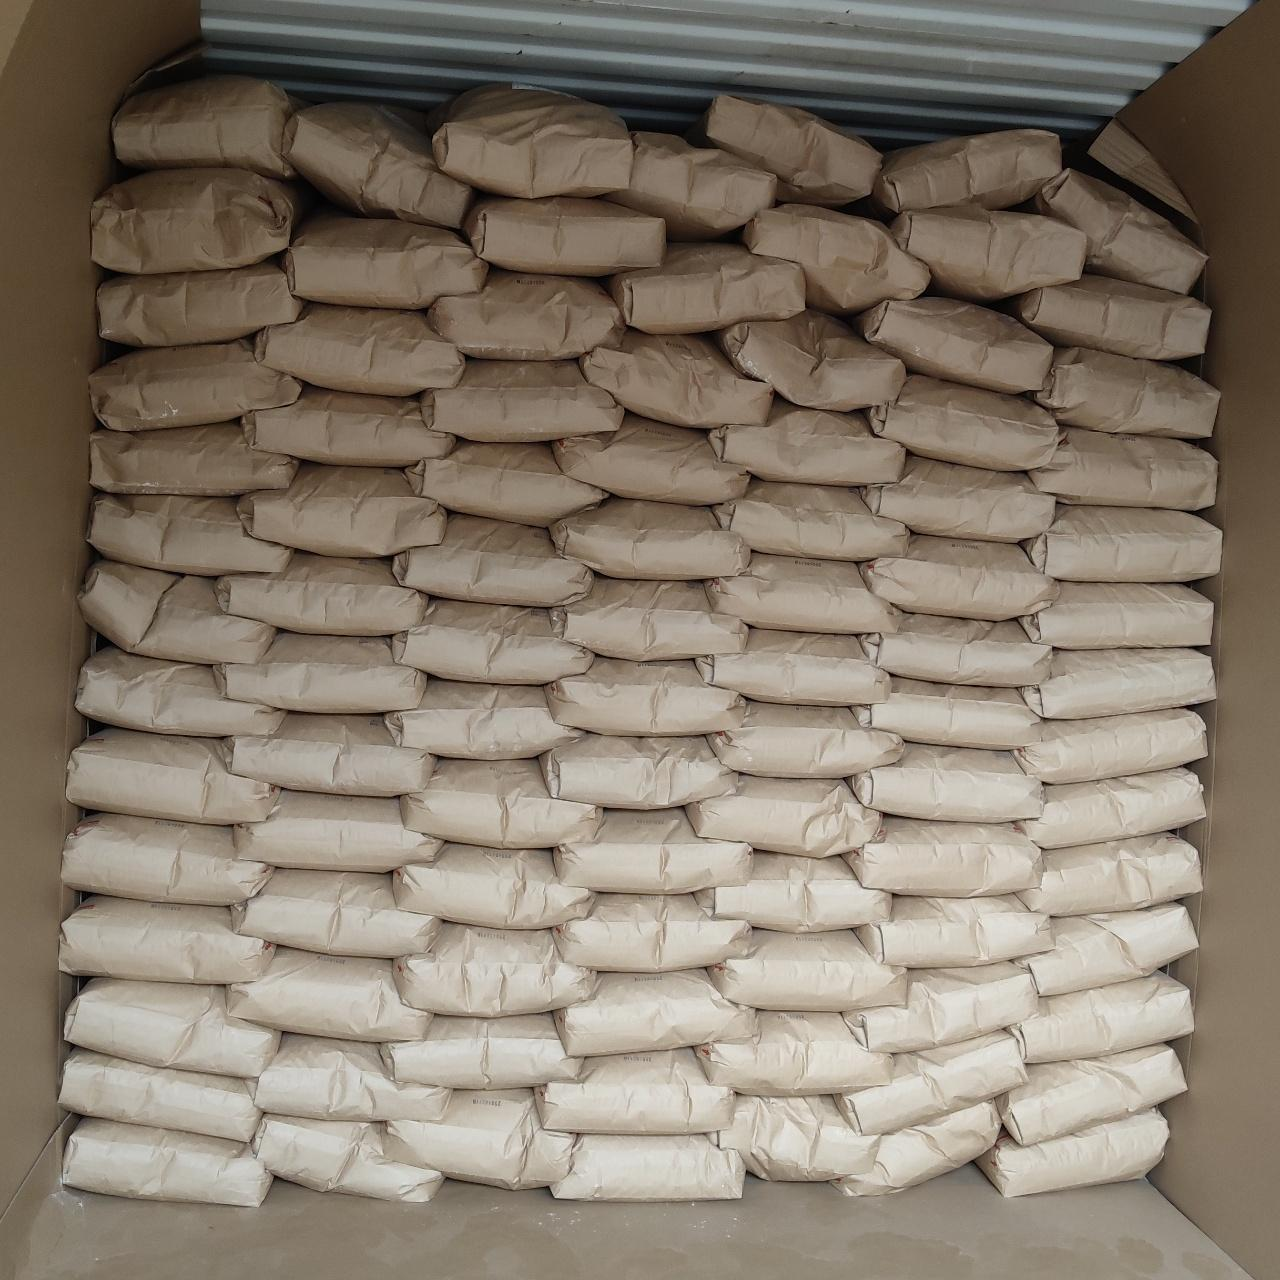sack: (92, 168, 318, 270), (288, 104, 470, 226), (432, 84, 630, 196), (1026, 168, 1204, 292), (66, 978, 278, 1076), (284, 210, 486, 308), (68, 728, 278, 822), (702, 94, 878, 206), (80, 560, 272, 662), (742, 206, 926, 312), (240, 464, 444, 556), (838, 1032, 1022, 1134), (92, 338, 300, 428), (384, 1090, 574, 1188), (854, 296, 1050, 390), (114, 76, 298, 176), (582, 330, 772, 426), (62, 1048, 260, 1140), (228, 948, 430, 1038), (64, 814, 270, 902), (76, 646, 282, 734), (62, 896, 272, 982), (394, 514, 590, 606), (892, 208, 1086, 300), (396, 924, 594, 1014), (256, 304, 462, 390), (232, 870, 438, 956), (716, 312, 902, 406), (1000, 1046, 1182, 1142), (606, 244, 804, 332), (606, 134, 776, 236), (64, 1120, 270, 1204), (98, 260, 302, 344), (868, 376, 1054, 468), (428, 270, 622, 358), (402, 760, 598, 846), (1004, 276, 1208, 358), (556, 414, 746, 502), (226, 714, 434, 794), (218, 552, 426, 632), (556, 970, 754, 1054), (1032, 348, 1216, 438), (844, 964, 1036, 1050), (254, 1034, 448, 1118), (1010, 972, 1190, 1062), (1016, 904, 1196, 994), (978, 1108, 1166, 1194), (710, 400, 902, 484), (870, 130, 1062, 214), (538, 1050, 734, 1132), (394, 844, 590, 926), (408, 442, 604, 524), (862, 456, 1052, 540), (242, 386, 452, 462), (556, 810, 750, 892), (90, 494, 288, 574), (392, 600, 590, 680), (254, 1114, 442, 1198), (236, 792, 438, 870), (696, 1012, 888, 1094), (552, 498, 748, 578), (216, 634, 422, 710), (422, 360, 622, 438), (462, 196, 662, 274), (552, 578, 744, 658), (714, 480, 908, 558), (1030, 428, 1214, 510), (862, 536, 1054, 614), (386, 680, 578, 758), (696, 852, 888, 930), (836, 1102, 998, 1194), (688, 776, 878, 854), (712, 930, 902, 1008), (548, 658, 742, 734), (556, 894, 750, 970), (92, 422, 296, 494), (1022, 506, 1220, 580), (1020, 834, 1198, 916), (848, 818, 1038, 894), (850, 744, 1040, 820), (708, 554, 896, 630), (382, 1014, 580, 1086), (1020, 770, 1204, 846), (708, 702, 900, 774), (542, 734, 734, 806), (712, 1096, 876, 1180), (696, 630, 886, 702), (1016, 710, 1206, 782), (858, 896, 1050, 966), (862, 614, 1050, 684), (854, 678, 1038, 748), (1024, 650, 1214, 716), (1020, 584, 1212, 646), (552, 1136, 742, 1198)
